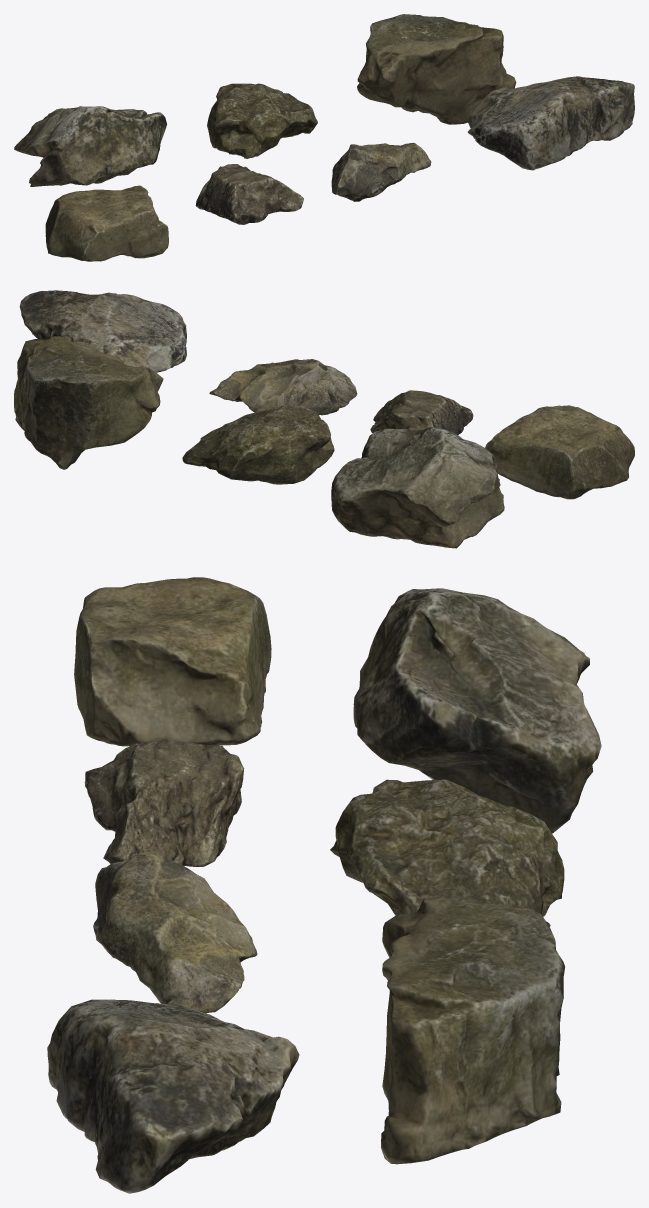
Rendered from rock_moss_set_02.glb.
The picture shows the model from 3 angles, top to bottom: view 1: azimuth 30°, elevation 25°; view 2: azimuth 150°, elevation 25°; view 3: azimuth 270°, elevation 25°; orthographic projection. The views are drawn at different scales.
Visible parts, largest first — view 1: rock_moss_set_02_rock13, rock_moss_set_02_rock10, rock_moss_set_02_rock11, rock_moss_set_02_rock07, rock_moss_set_02_rock12, rock_moss_set_02_rock08, rock_moss_set_02_rock09; view 2: rock_moss_set_02_rock11, rock_moss_set_02_rock13, rock_moss_set_02_rock07, rock_moss_set_02_rock10, rock_moss_set_02_rock12, rock_moss_set_02_rock09, rock_moss_set_02_rock08; view 3: rock_moss_set_02_rock13, rock_moss_set_02_rock11, rock_moss_set_02_rock10, rock_moss_set_02_rock07, rock_moss_set_02_rock12, rock_moss_set_02_rock09, rock_moss_set_02_rock08.
Part boxes in pixels (bbox=[...]): rock_moss_set_02_rock13: bbox=[357, 14, 516, 124]; rock_moss_set_02_rock10: bbox=[468, 76, 634, 170]; rock_moss_set_02_rock11: bbox=[14, 106, 166, 186]; rock_moss_set_02_rock07: bbox=[45, 185, 168, 261]; rock_moss_set_02_rock12: bbox=[207, 83, 317, 158]; rock_moss_set_02_rock08: bbox=[195, 164, 303, 224]; rock_moss_set_02_rock09: bbox=[331, 142, 431, 201]; rock_moss_set_02_rock11: bbox=[331, 426, 504, 548]; rock_moss_set_02_rock13: bbox=[14, 336, 163, 469]; rock_moss_set_02_rock07: bbox=[485, 405, 634, 499]; rock_moss_set_02_rock10: bbox=[19, 290, 186, 372]; rock_moss_set_02_rock12: bbox=[182, 406, 334, 484]; rock_moss_set_02_rock09: bbox=[209, 359, 357, 415]; rock_moss_set_02_rock08: bbox=[370, 390, 473, 434]; rock_moss_set_02_rock13: bbox=[381, 895, 564, 1164]; rock_moss_set_02_rock11: bbox=[353, 588, 601, 833]; rock_moss_set_02_rock10: bbox=[47, 999, 299, 1193]; rock_moss_set_02_rock07: bbox=[74, 577, 271, 746]; rock_moss_set_02_rock12: bbox=[330, 779, 564, 927]; rock_moss_set_02_rock09: bbox=[93, 851, 257, 1013]; rock_moss_set_02_rock08: bbox=[84, 741, 244, 866].
Bounding box in the file's own units: 8.28 × 1.37 × 3.41.
1 material, 1 textured.
